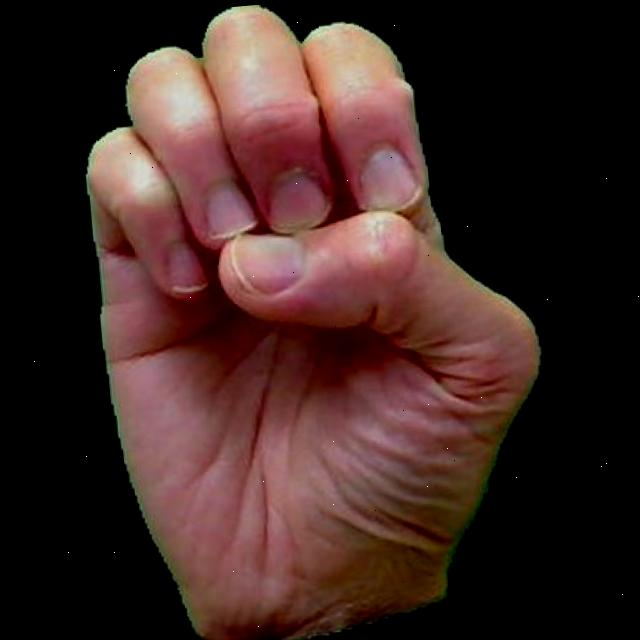e: (47, 0, 563, 640)
